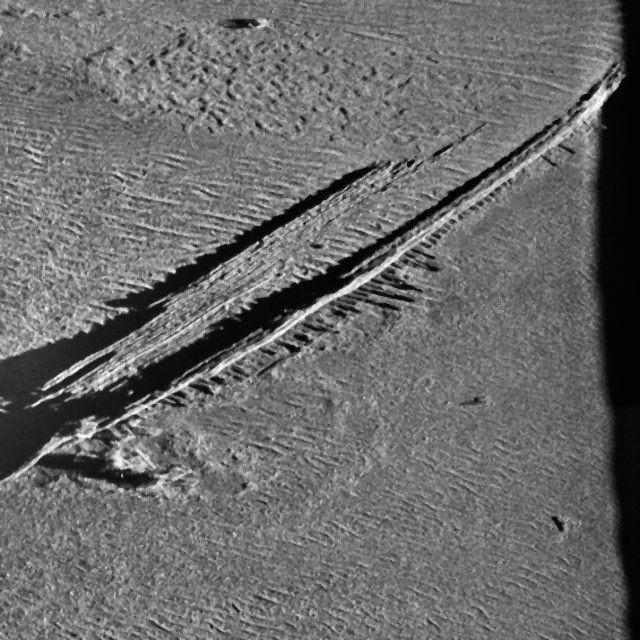Ship: (0, 46, 640, 503)
